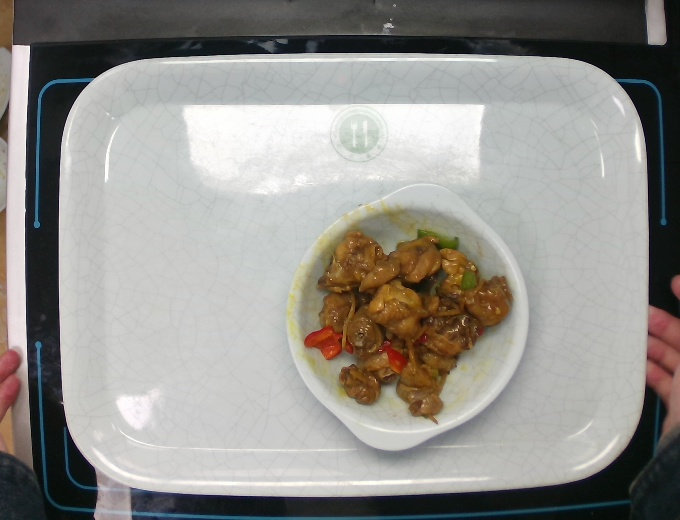JYsf-Shuang_Er_Wan: (284, 180, 533, 452)
